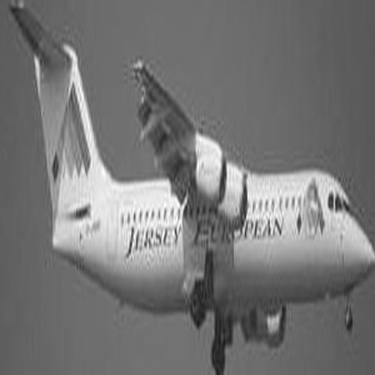airplane: (17, 10, 367, 346)
